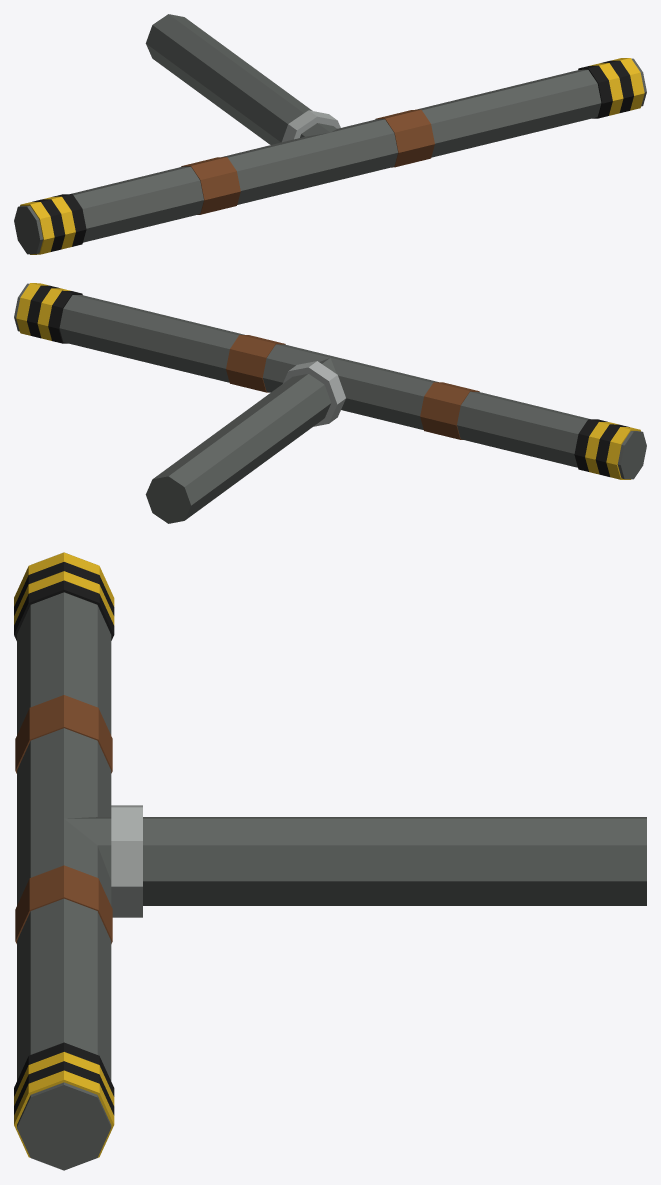
File: pipe_T.glb
3 renders of one model, top to bottom at view 1: azimuth 30°, elevation 25°; view 2: azimuth 150°, elevation 25°; view 3: azimuth 270°, elevation 25°, orthographic. The views are drawn at different scales.
Visible parts, largest first — view 1: surf_climb_pipe_T; view 2: surf_climb_pipe_T; view 3: surf_climb_pipe_T.
Boxes of the visible parts, <box> form: surf_climb_pipe_T: <box>14,14,646,254</box>; surf_climb_pipe_T: <box>14,283,646,523</box>; surf_climb_pipe_T: <box>14,552,646,1170</box>.
Bounding box in the file's own units: 2 × 0.19 × 1.
